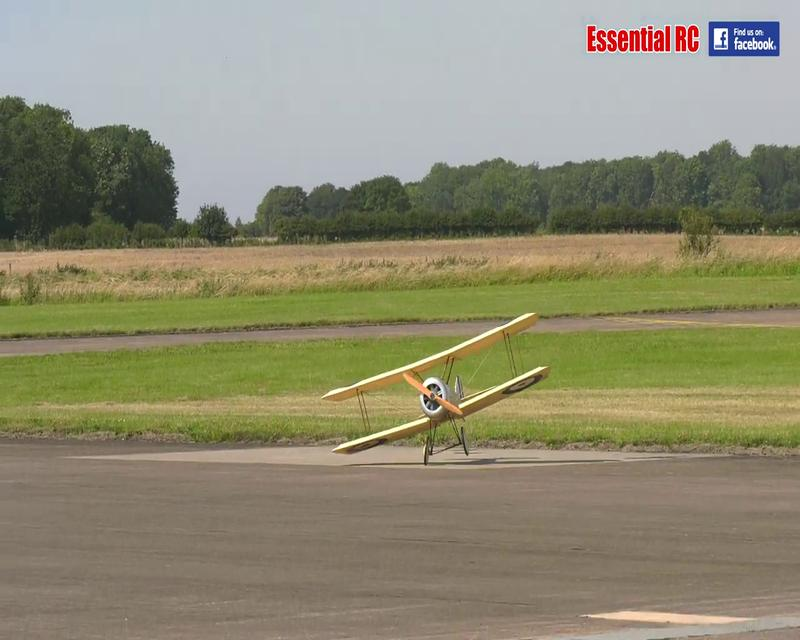UAV: (321, 311, 551, 464)
